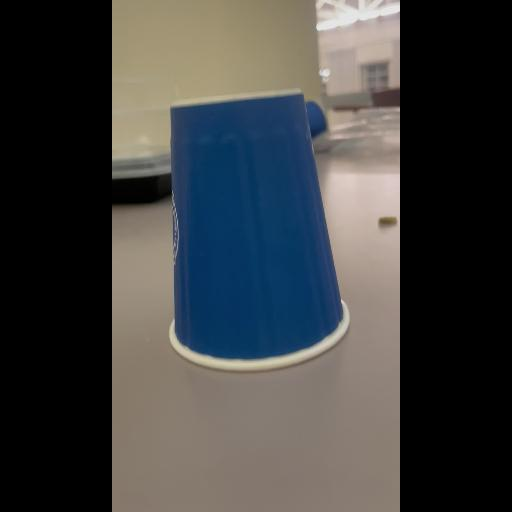lp_paper_cup: (162, 90, 352, 372)
